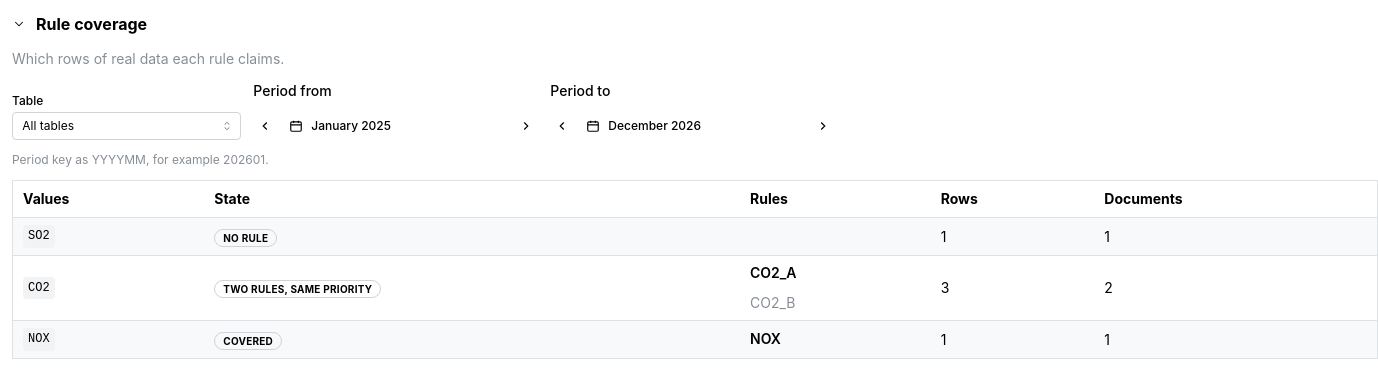
Test case: Матриця покриття правил: вибір таблиці показує назву, а не TableDefId › дзеркало: ні назви, ні коду — запасний варіант "Table {id}"
Expected: the text "CO2" is shown, x1=23 y1=277 x2=55 y2=299
Click the field labelled "Table" at (127, 126), box x1=12 y1=112 x2=241 y2=140
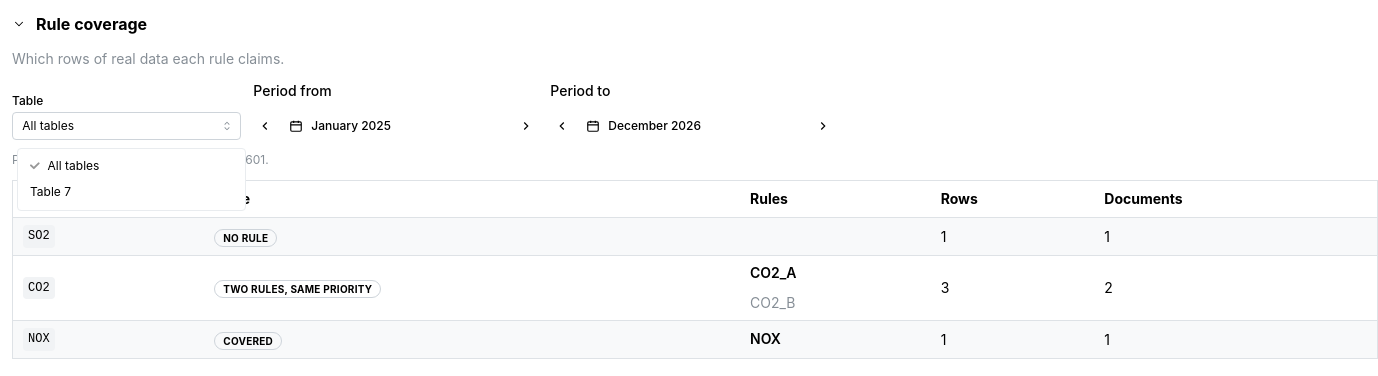
Expected: the option "Table 7" is shown, x1=30 y1=184 x2=71 y2=199
